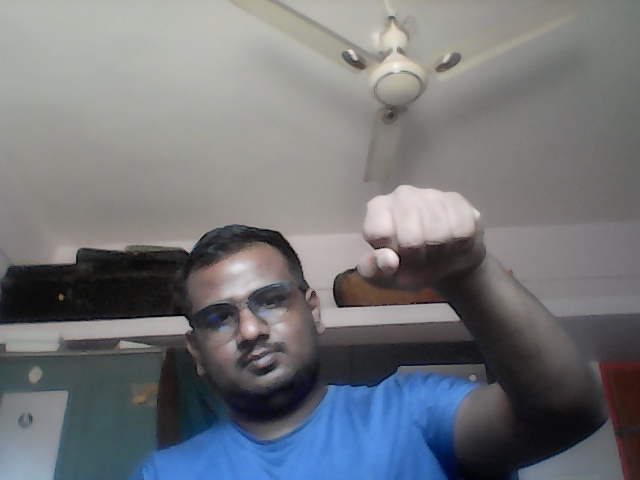Yes: (353, 182, 496, 293)
